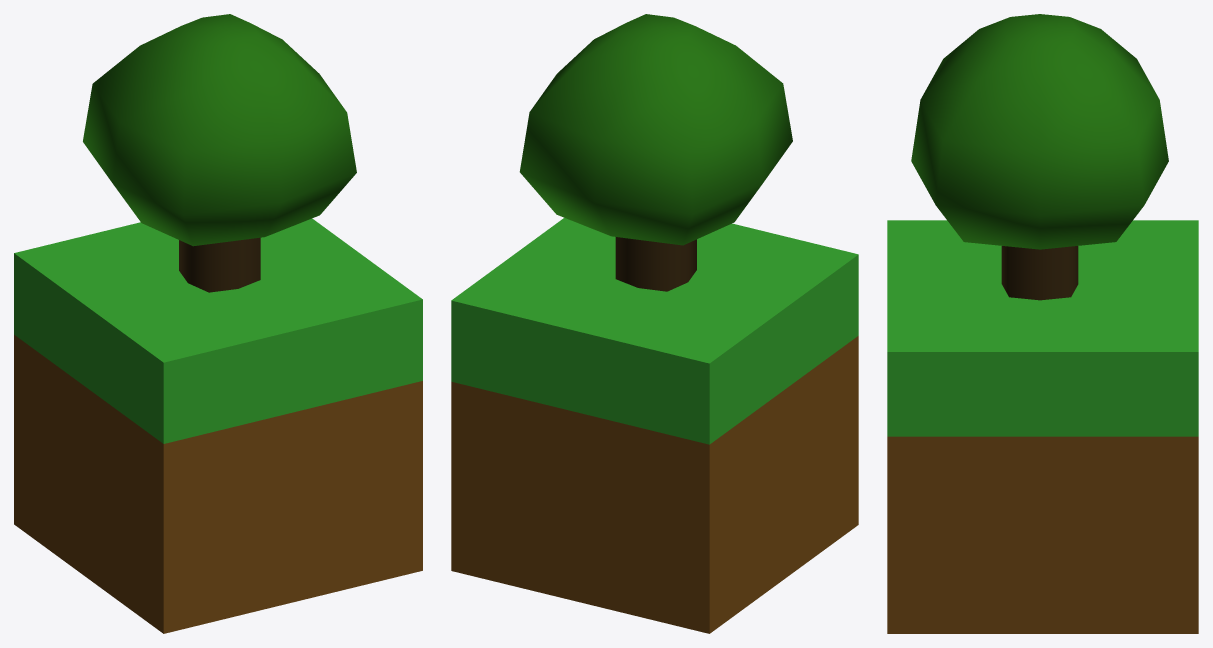
Rendered from ForestTreeSmallBlender.glb.
3 views of the same model, side by side, from view 1: azimuth 30°, elevation 25°; view 2: azimuth 150°, elevation 25°; view 3: azimuth 270°, elevation 25° (orthographic). The views are drawn at different scales.
Visible parts, largest first — view 1: ForestGround01, ForestTreeDShort; view 2: ForestGround01, ForestTreeDShort; view 3: ForestGround01, ForestTreeDShort.
Boxes of the visible parts, x1=… form: ForestGround01: x1=14, y1=218, x2=422, y2=633; ForestTreeDShort: x1=83, y1=14, x2=356, y2=292; ForestGround01: x1=451, y1=218, x2=858, y2=633; ForestTreeDShort: x1=519, y1=14, x2=792, y2=291; ForestGround01: x1=887, y1=220, x2=1198, y2=633; ForestTreeDShort: x1=911, y1=14, x2=1168, y2=300.
Size of the model in its own units: 2 by 3.84 by 2.
Materials: 2 (2 with a texture image).
